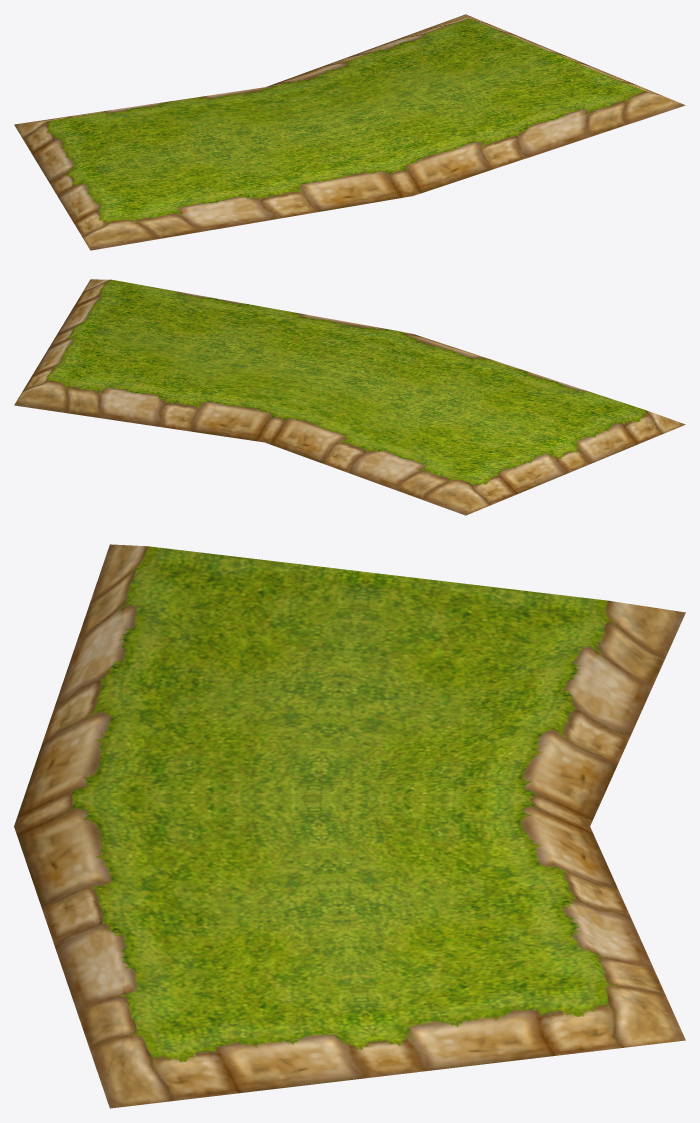
The model's file is obj_maflhala02.glb.
The picture shows the model from 3 angles, top to bottom: view 1: azimuth 30°, elevation 25°; view 2: azimuth 150°, elevation 25°; view 3: azimuth 270°, elevation 25°; orthographic projection. The views are drawn at different scales.
Visible parts, largest first — view 1: part_0; view 2: part_0; view 3: part_0.
Part boxes in pixels (bbox=[...]): part_0: bbox=[14, 14, 685, 250]; part_0: bbox=[14, 279, 685, 515]; part_0: bbox=[14, 544, 685, 1108].
Size of the model in its own units: 10.84 by 0.2515 by 5.46.
Materials: 1 (1 with a texture image).
